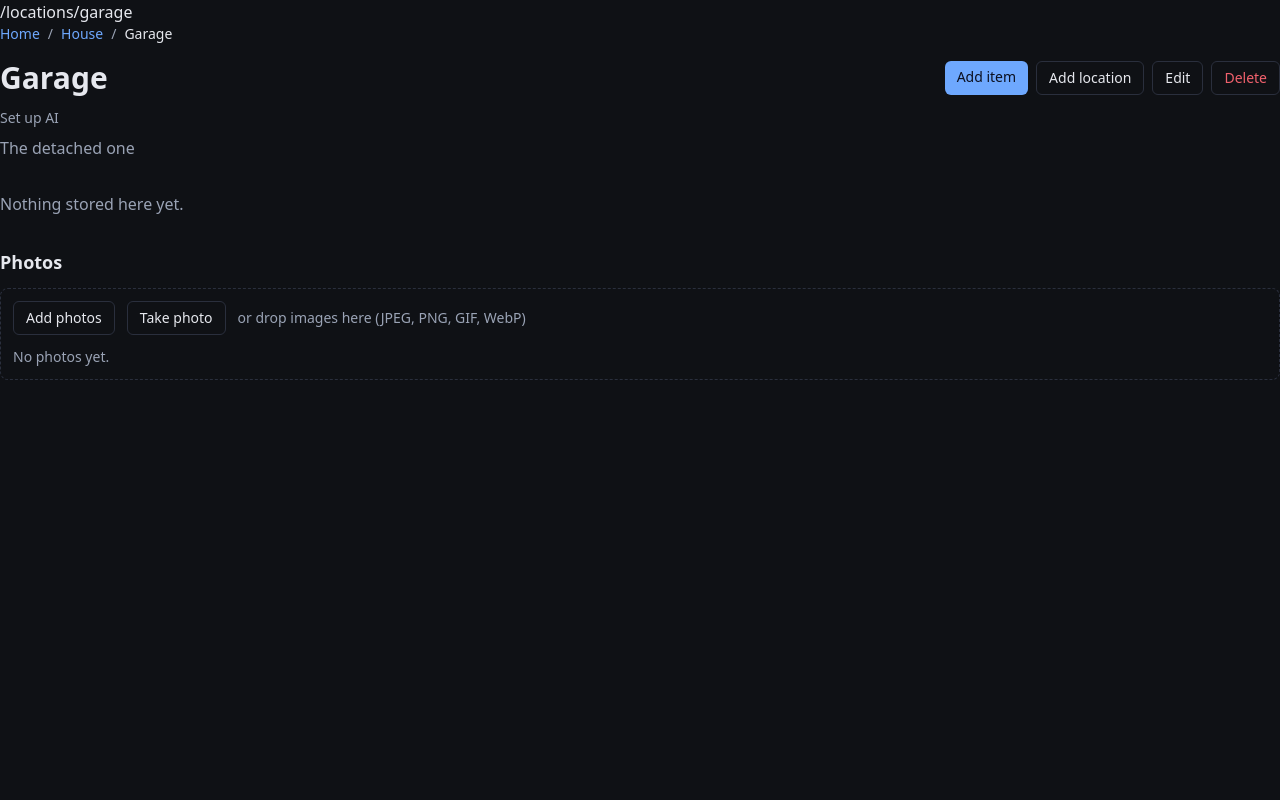
Test: LocationPage › deleting a location navigates to its parent location
Step 1. Click the button "Delete" → (1246, 78), box [1211,61,1279,95]
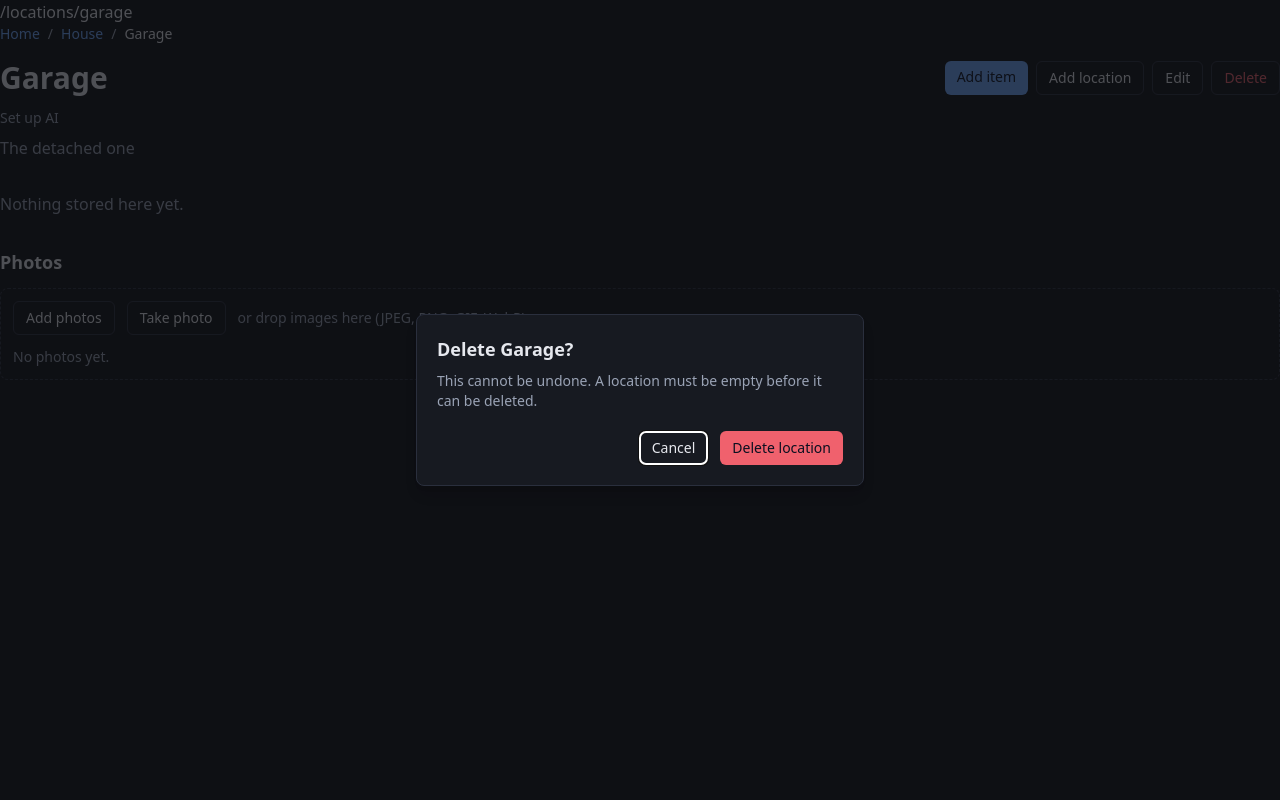
Step 2. Click the button "Delete location" → (782, 448), box [720,431,843,465]
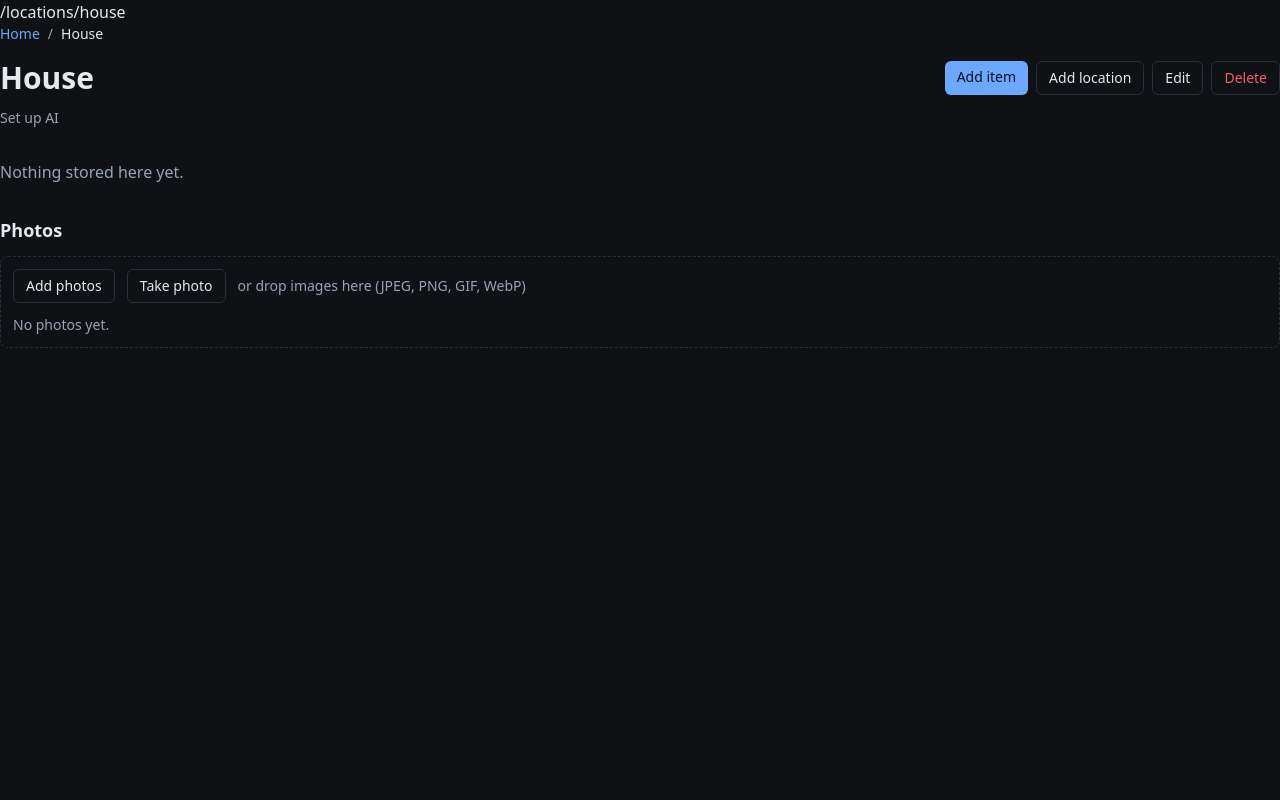
Expected: the heading "House" is shown, [0,60,94,96]
Expected: the text with test id "current-path" reads "/locations/house", [0,1,126,23]
Expected: the dialog is gone
Step 3. Click the button "Delete" → (1246, 78), box [1211,61,1279,95]
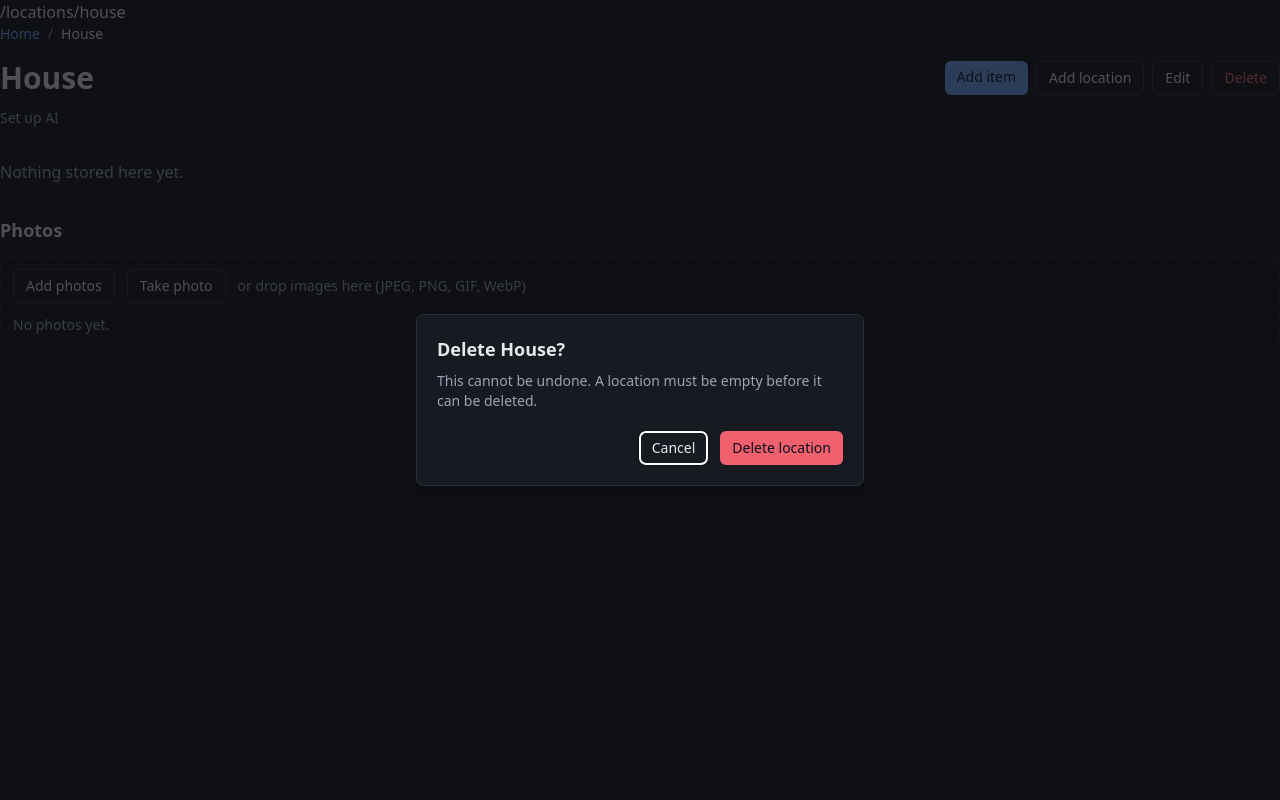
Expected: the button "Delete location" is enabled, [720,431,843,465]
